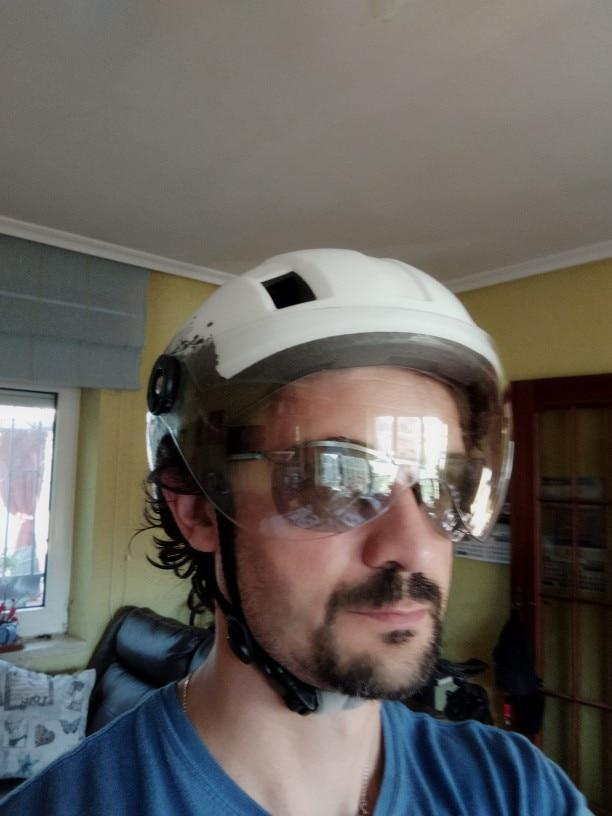helmet: (143, 245, 510, 461)
